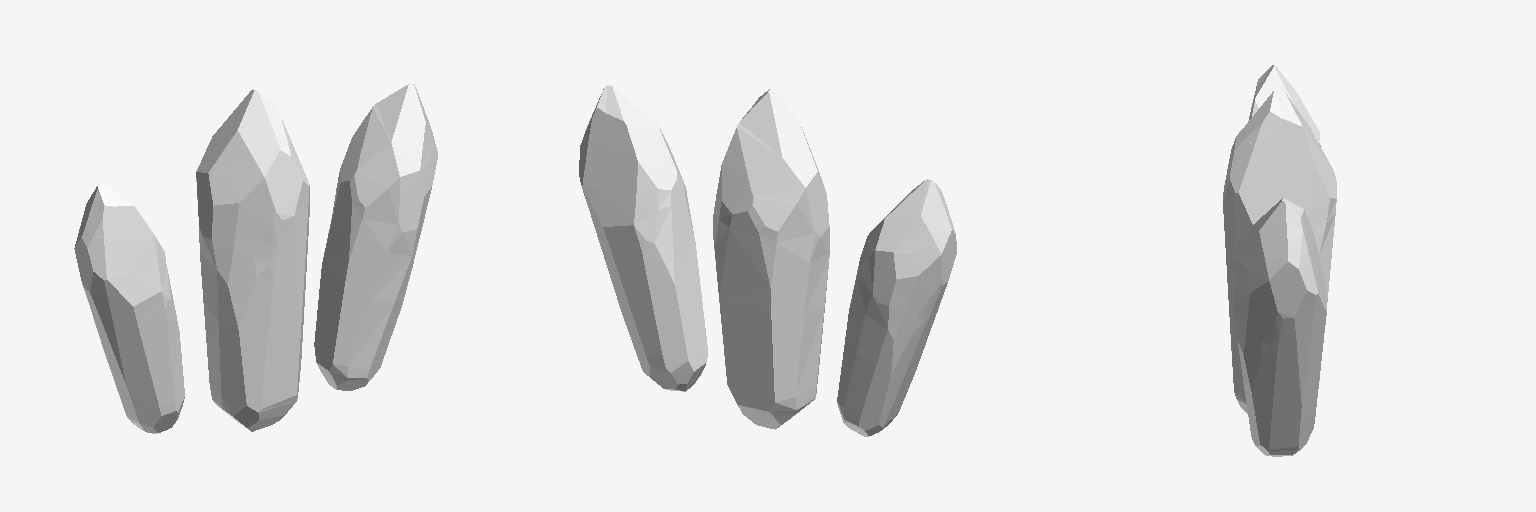
Rendered from glowing_crystals.obj.
3 renders of one model, left to right at view 1: azimuth 30°, elevation 25°; view 2: azimuth 150°, elevation 25°; view 3: azimuth 270°, elevation 25°, orthographic.
Parts seen in each view (by area): view 1: meshes[2], meshes[1], meshes[0]; view 2: meshes[2], meshes[1], meshes[0]; view 3: meshes[1], meshes[2], meshes[0].
Part boxes in pixels (x1,y1,x2,y2): meshes[2]: (196, 89, 309, 431); meshes[1]: (314, 83, 437, 390); meshes[0]: (74, 183, 184, 433); meshes[2]: (713, 88, 829, 429); meshes[1]: (579, 85, 707, 391); meshes[0]: (837, 179, 956, 436); meshes[1]: (1234, 198, 1326, 456); meshes[2]: (1223, 88, 1336, 413); meshes[0]: (1248, 65, 1320, 146).
Bounding box in the file's own units: 2.24 × 2 × 0.6202.